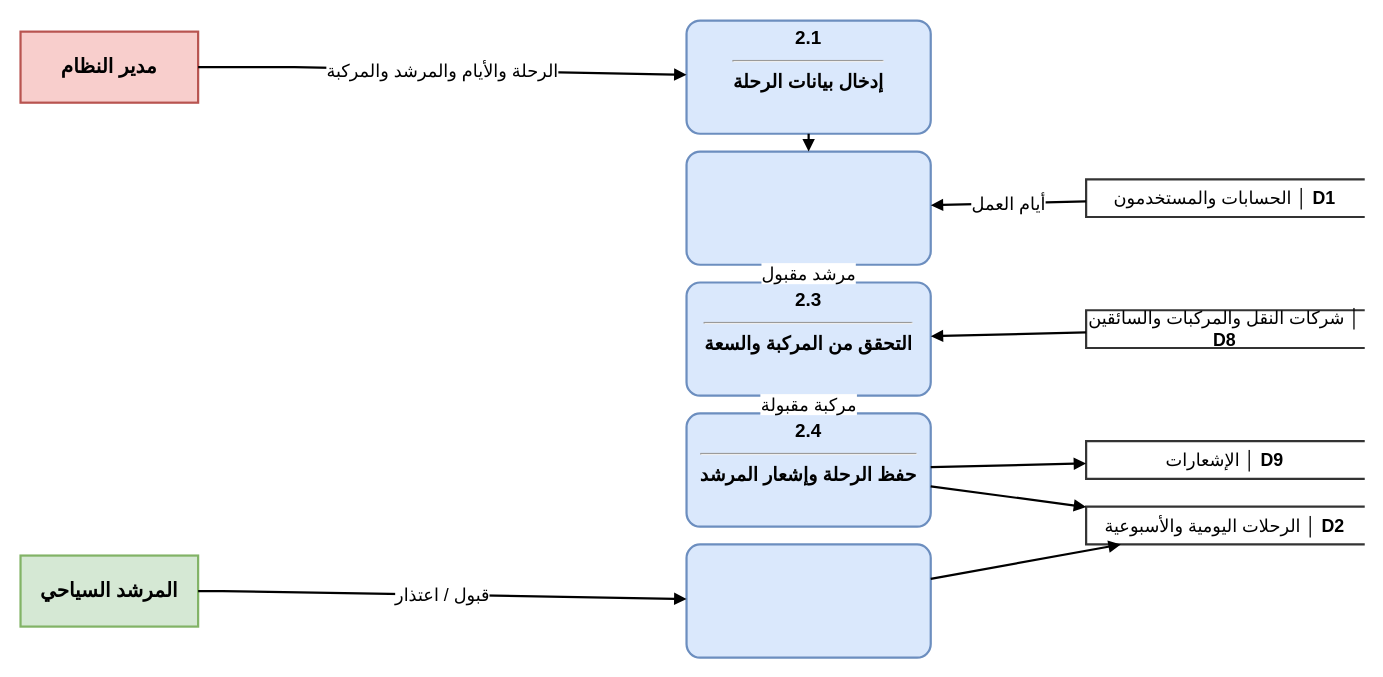
The diagram is 1383 pixels wide and 677 high, and some of its shapes have lost their labels. Each missing label, with the centre of its shape:
"2.2 التحقق من المرشد (أيام العمل والترخيص)" belongs at point (808, 207).
"2.5 رد المرشد" belongs at point (808, 600).
